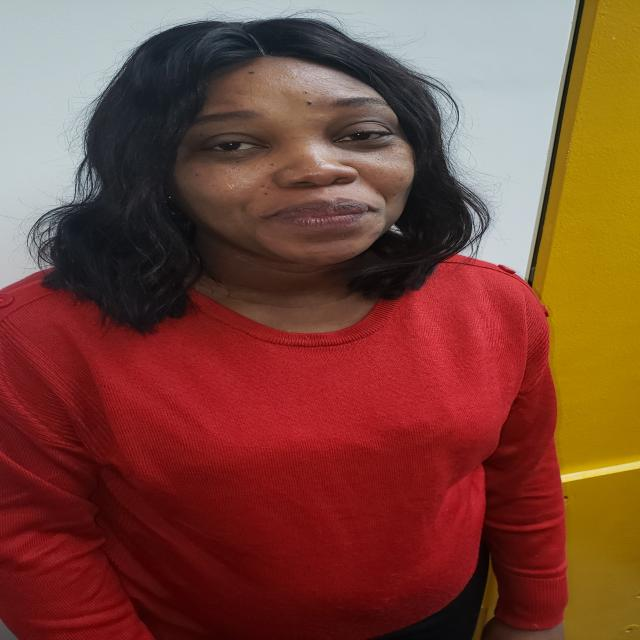happy: (144, 43, 420, 271)
